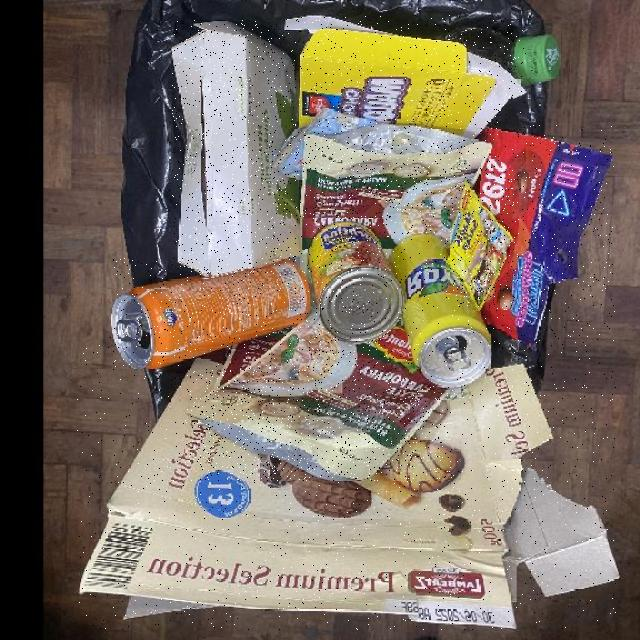metal: (111, 258, 309, 368), (389, 234, 492, 386), (306, 218, 404, 340)
paper: (77, 345, 617, 629), (173, 20, 301, 277), (285, 15, 526, 139)
wrapper: (185, 312, 454, 480), (297, 123, 490, 309), (471, 125, 615, 346), (446, 181, 516, 311)
